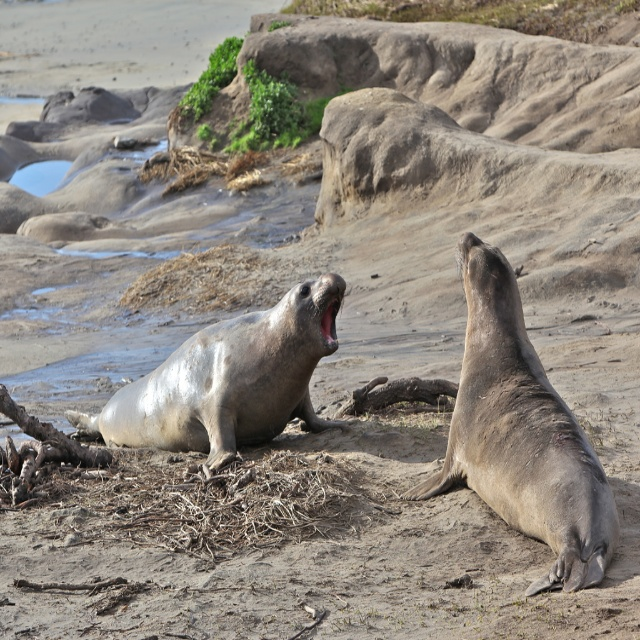Harbor seal: (396, 231, 626, 595), (64, 271, 348, 476)
